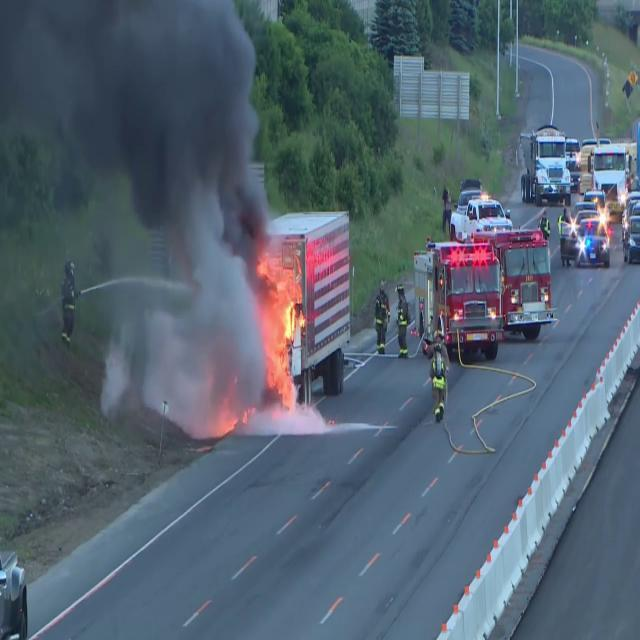Fire: (264, 269, 304, 409)
Smoke: (0, 0, 272, 437)
